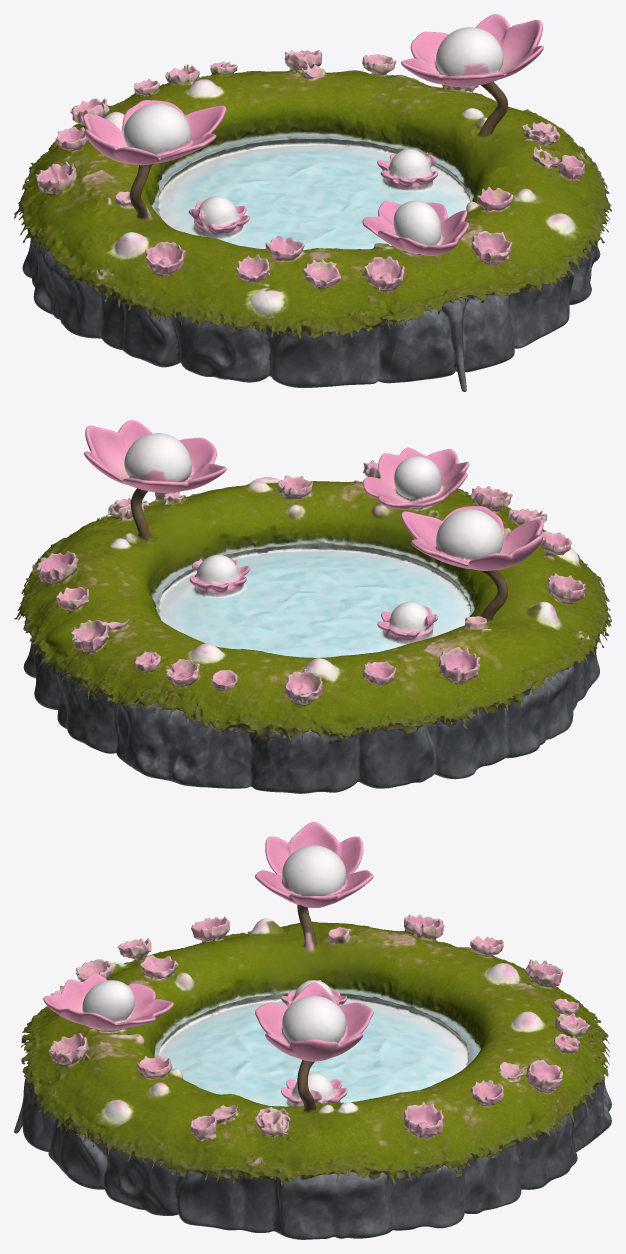
File: Meshy_AI_Moonlit_Lily_Isle_1014113457_texture.fbx
3 views of the same model, one above another, from view 1: azimuth 30°, elevation 25°; view 2: azimuth 150°, elevation 25°; view 3: azimuth 270°, elevation 25° (orthographic).
Visible parts, largest first — view 1: Mesh_0; view 2: Mesh_0; view 3: Mesh_0.
Part boxes in pixels (x1,y1,x2,y2): Mesh_0: (14,14,611,391); Mesh_0: (14,420,611,793); Mesh_0: (14,822,611,1239).
Size of the model in its own units: 187 by 73.43 by 190.
Materials: 1 (1 with a texture image).
